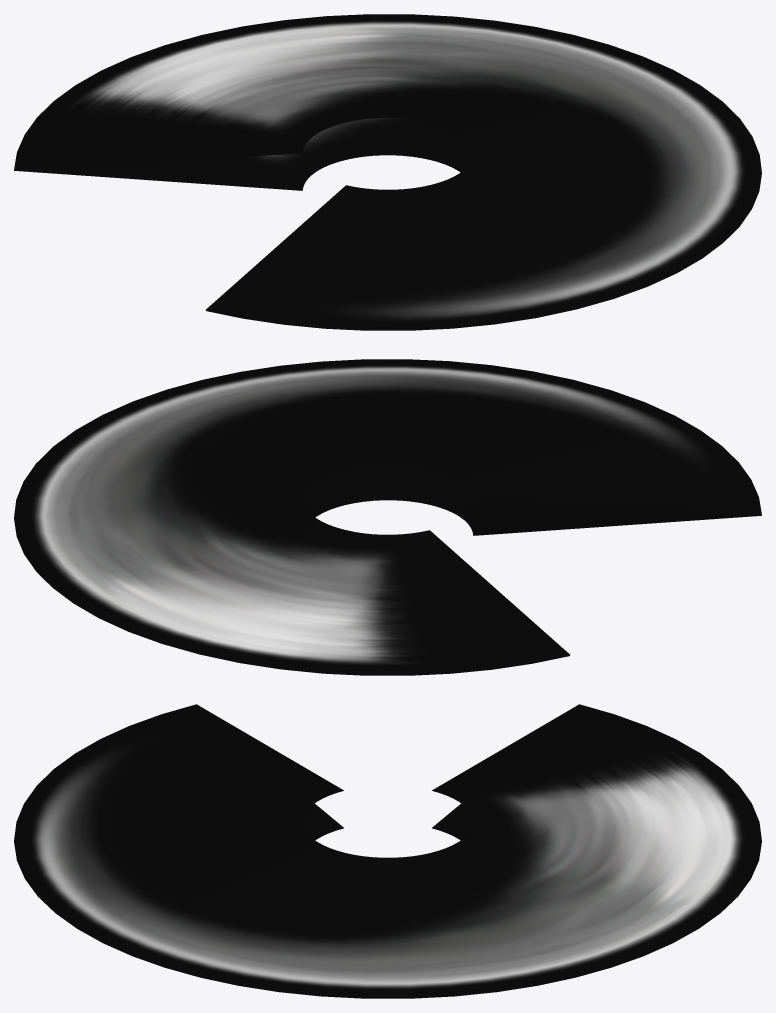
File: FXSM_Sword01.fbx
3 renders of one model, top to bottom at view 1: azimuth 30°, elevation 25°; view 2: azimuth 150°, elevation 25°; view 3: azimuth 270°, elevation 25°, orthographic.
Visible parts, largest first — view 1: FXSM_Sword01; view 2: FXSM_Sword01; view 3: FXSM_Sword01.
Boxes of the visible parts, x1,y1,x2,y2 form: FXSM_Sword01: (14,14,761,330); FXSM_Sword01: (14,359,761,675); FXSM_Sword01: (14,704,761,998).
Bounding box in the file's own units: 303 × 18.02 × 326.
